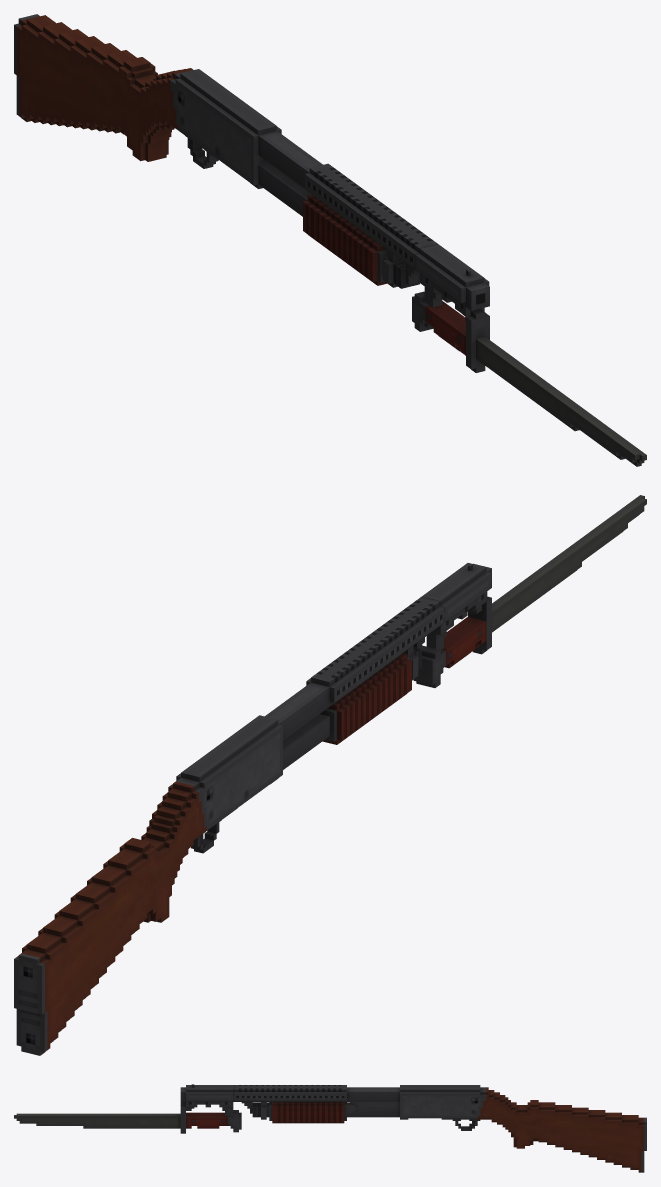
The model's file is RD_ITHACA37.glb.
3 views of the same model, one above another, from view 1: azimuth 30°, elevation 25°; view 2: azimuth 150°, elevation 25°; view 3: azimuth 270°, elevation 25° (orthographic). The views are drawn at different scales.
Visible parts, largest first — view 1: ITHACA37, ITHACA37_KNIFE, ITHACA37_FOREND; view 2: ITHACA37, ITHACA37_KNIFE, ITHACA37_FOREND; view 3: ITHACA37, ITHACA37_KNIFE, ITHACA37_FOREND.
Part boxes in pixels (x1,y1,x2,y2): ITHACA37: (14, 14, 489, 328); ITHACA37_KNIFE: (412, 291, 646, 466); ITHACA37_FOREND: (303, 194, 387, 285); ITHACA37: (14, 563, 491, 1055); ITHACA37_KNIFE: (413, 495, 646, 687); ITHACA37_FOREND: (320, 653, 411, 744); ITHACA37: (180, 1084, 646, 1172); ITHACA37_KNIFE: (14, 1102, 241, 1133); ITHACA37_FOREND: (269, 1102, 399, 1123).
Size of the model in its own units: 0.0787 by 0.3346 by 2.24.
Materials: 1 (1 with a texture image).
